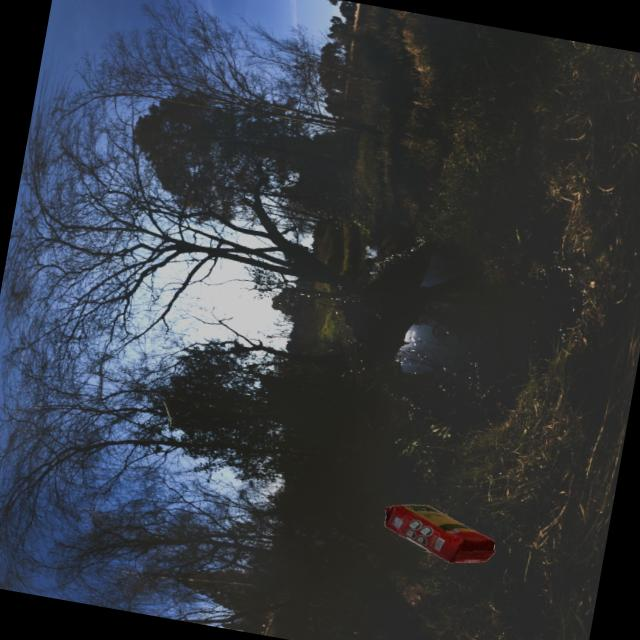mate bag: (376, 496, 502, 570)
